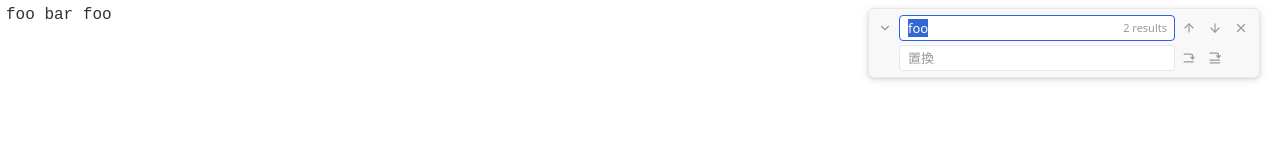
Test: 置換 › すべて置換で全部の一致を置換する
The width and height of the screenshot is (1279, 160).
Type "baz" into the field labelled "置換" at (1037,58), box top-left (899, 45), bottom-right (1175, 71)
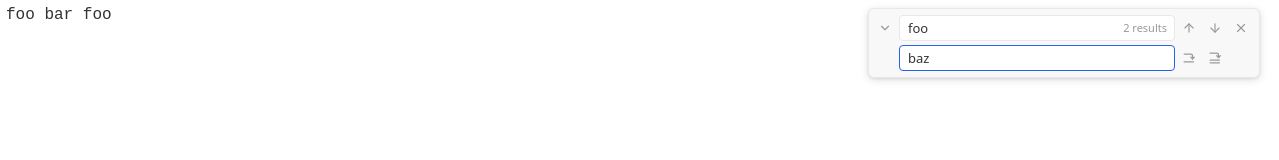
Click the button named "すべて置換" at (1215,58), box top-left (1203, 46), bottom-right (1227, 70)
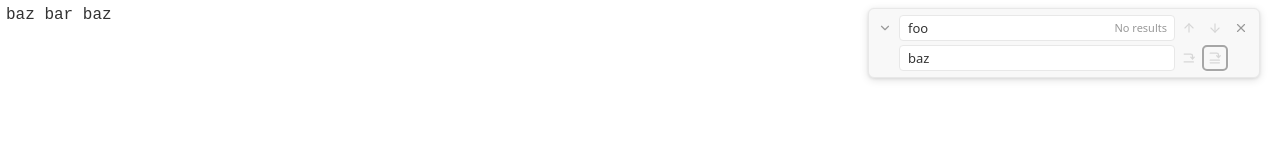
Result: the text box labelled "baz bar baz" is shown at top-left (6, 6), bottom-right (112, 24)
Result: the text with class "search-bar-match-count" reads "No results" at top-left (1114, 20), bottom-right (1167, 35)
